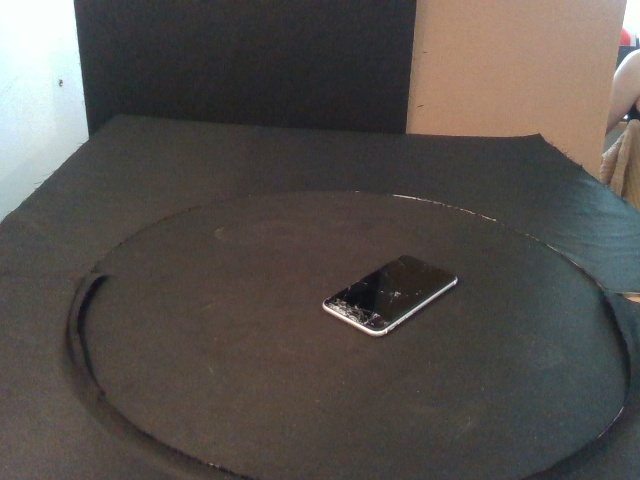phone: (321, 253, 460, 338)
